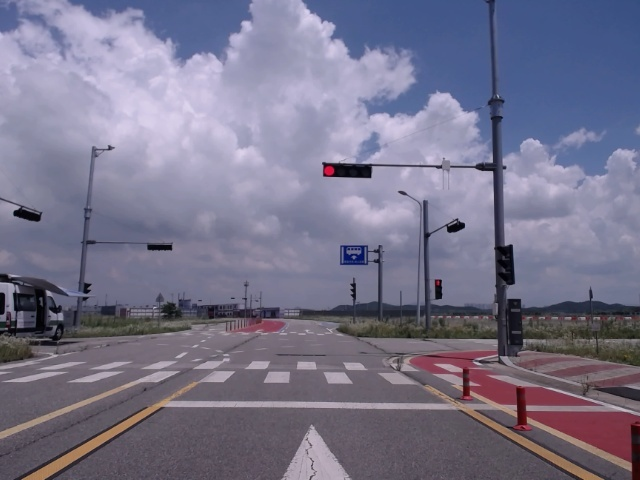red_4: (324, 165, 372, 178)
